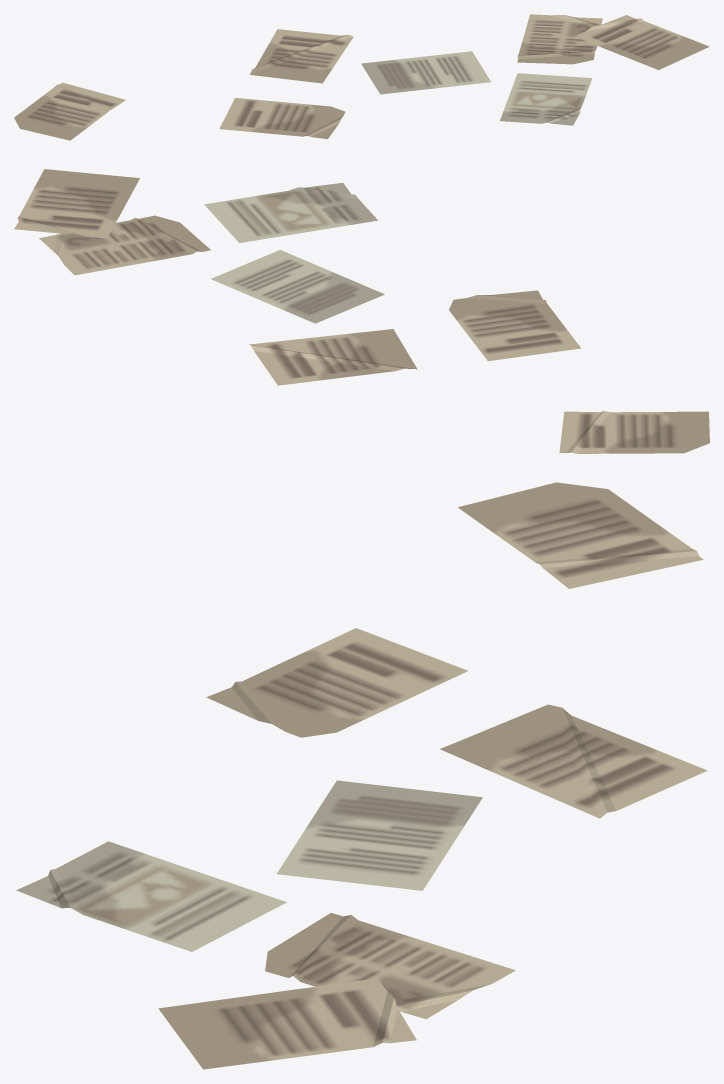
File: Prop_Papers_03.glb
3 views of the same model, one above another, from view 1: azimuth 30°, elevation 25°; view 2: azimuth 150°, elevation 25°; view 3: azimuth 270°, elevation 25° (orthographic). The views are drawn at different scales.
Visible parts, largest first — view 1: SM_Gen_Prop_Papers_03; view 2: SM_Gen_Prop_Papers_03; view 3: SM_Gen_Prop_Papers_03.
Boxes of the visible parts, x1,y1,x2,y2 form: SM_Gen_Prop_Papers_03: [14, 14, 709, 140]; SM_Gen_Prop_Papers_03: [14, 169, 709, 453]; SM_Gen_Prop_Papers_03: [16, 482, 707, 1069].
Size of the model in its own units: 2.04 by 0.00754 by 1.02.
1 material, 1 textured.
